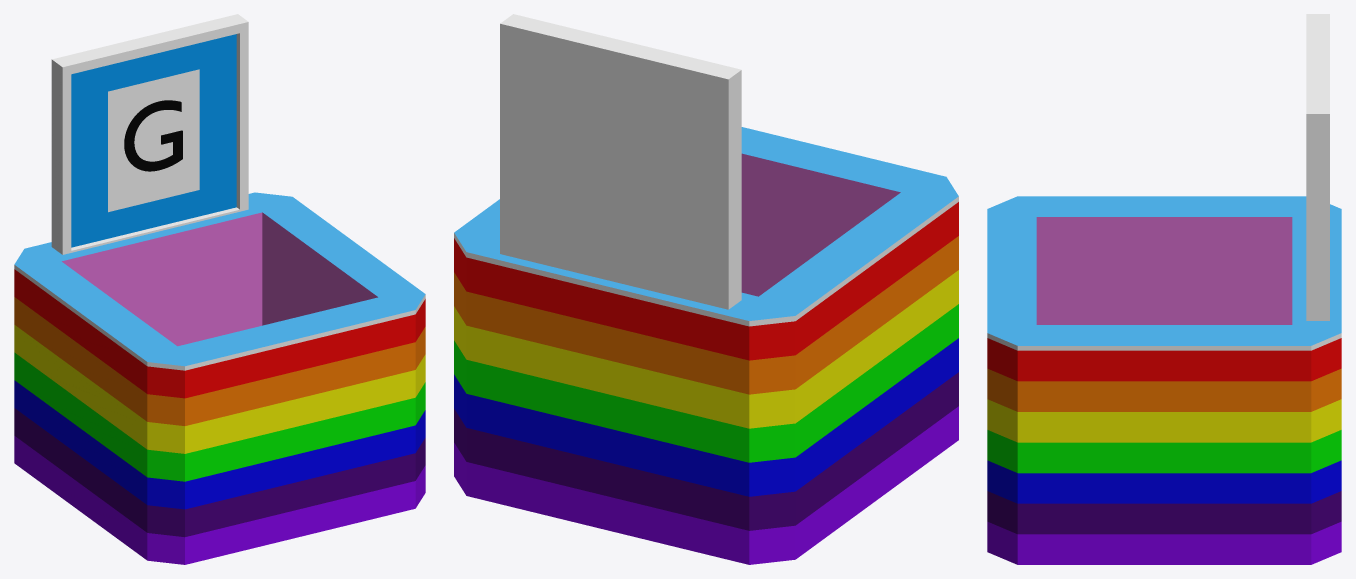
The picture shows the model from 3 angles, left to right: view 1: azimuth 30°, elevation 25°; view 2: azimuth 150°, elevation 25°; view 3: azimuth 270°, elevation 25°; orthographic projection. The views are drawn at different scales.
Parts seen in each view (by area): view 1: Cube.001, Text; view 2: Cube.001; view 3: Cube.001.
Boxes of the visible parts, box(x1,y1,x2,y2) form: Cube.001: box(14, 14, 425, 564); Text: box(124, 100, 182, 171); Cube.001: box(454, 14, 958, 564); Cube.001: box(987, 14, 1341, 564).
Size of the model in its own units: 383 by 508 by 383.
